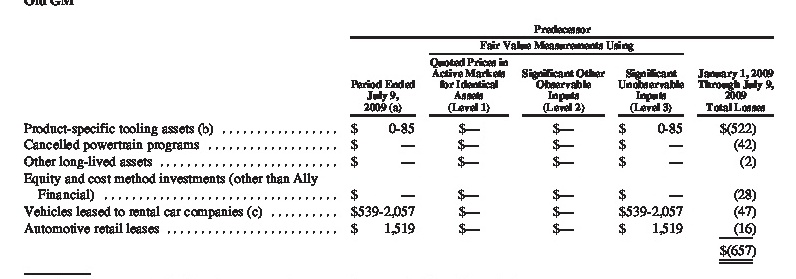table: (0, 0, 796, 279)
